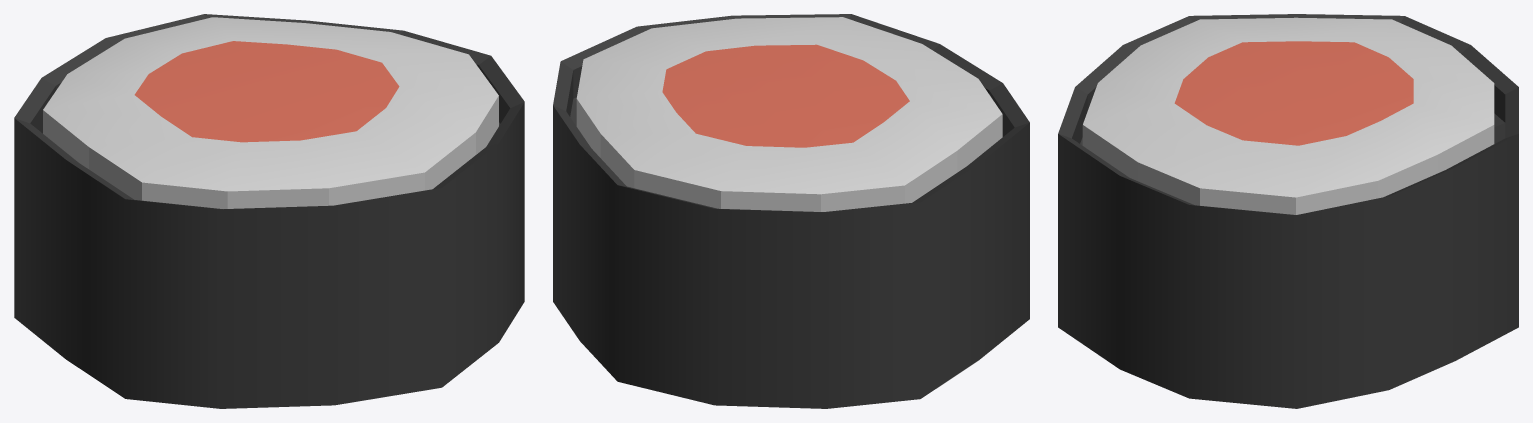
File: Sushi1.fbx
The picture shows the model from 3 angles, left to right: view 1: azimuth 30°, elevation 25°; view 2: azimuth 150°, elevation 25°; view 3: azimuth 270°, elevation 25°; orthographic projection. The views are drawn at different scales.
Visible parts, largest first — view 1: sushi1; view 2: sushi1; view 3: sushi1.
Boxes of the visible parts, x1=… form: sushi1: x1=14, y1=14, x2=524, y2=408; sushi1: x1=553, y1=14, x2=1029, y2=408; sushi1: x1=1058, y1=14, x2=1518, y2=408.
Bounding box in the file's own units: 7.77 × 4.04 × 7.52.
